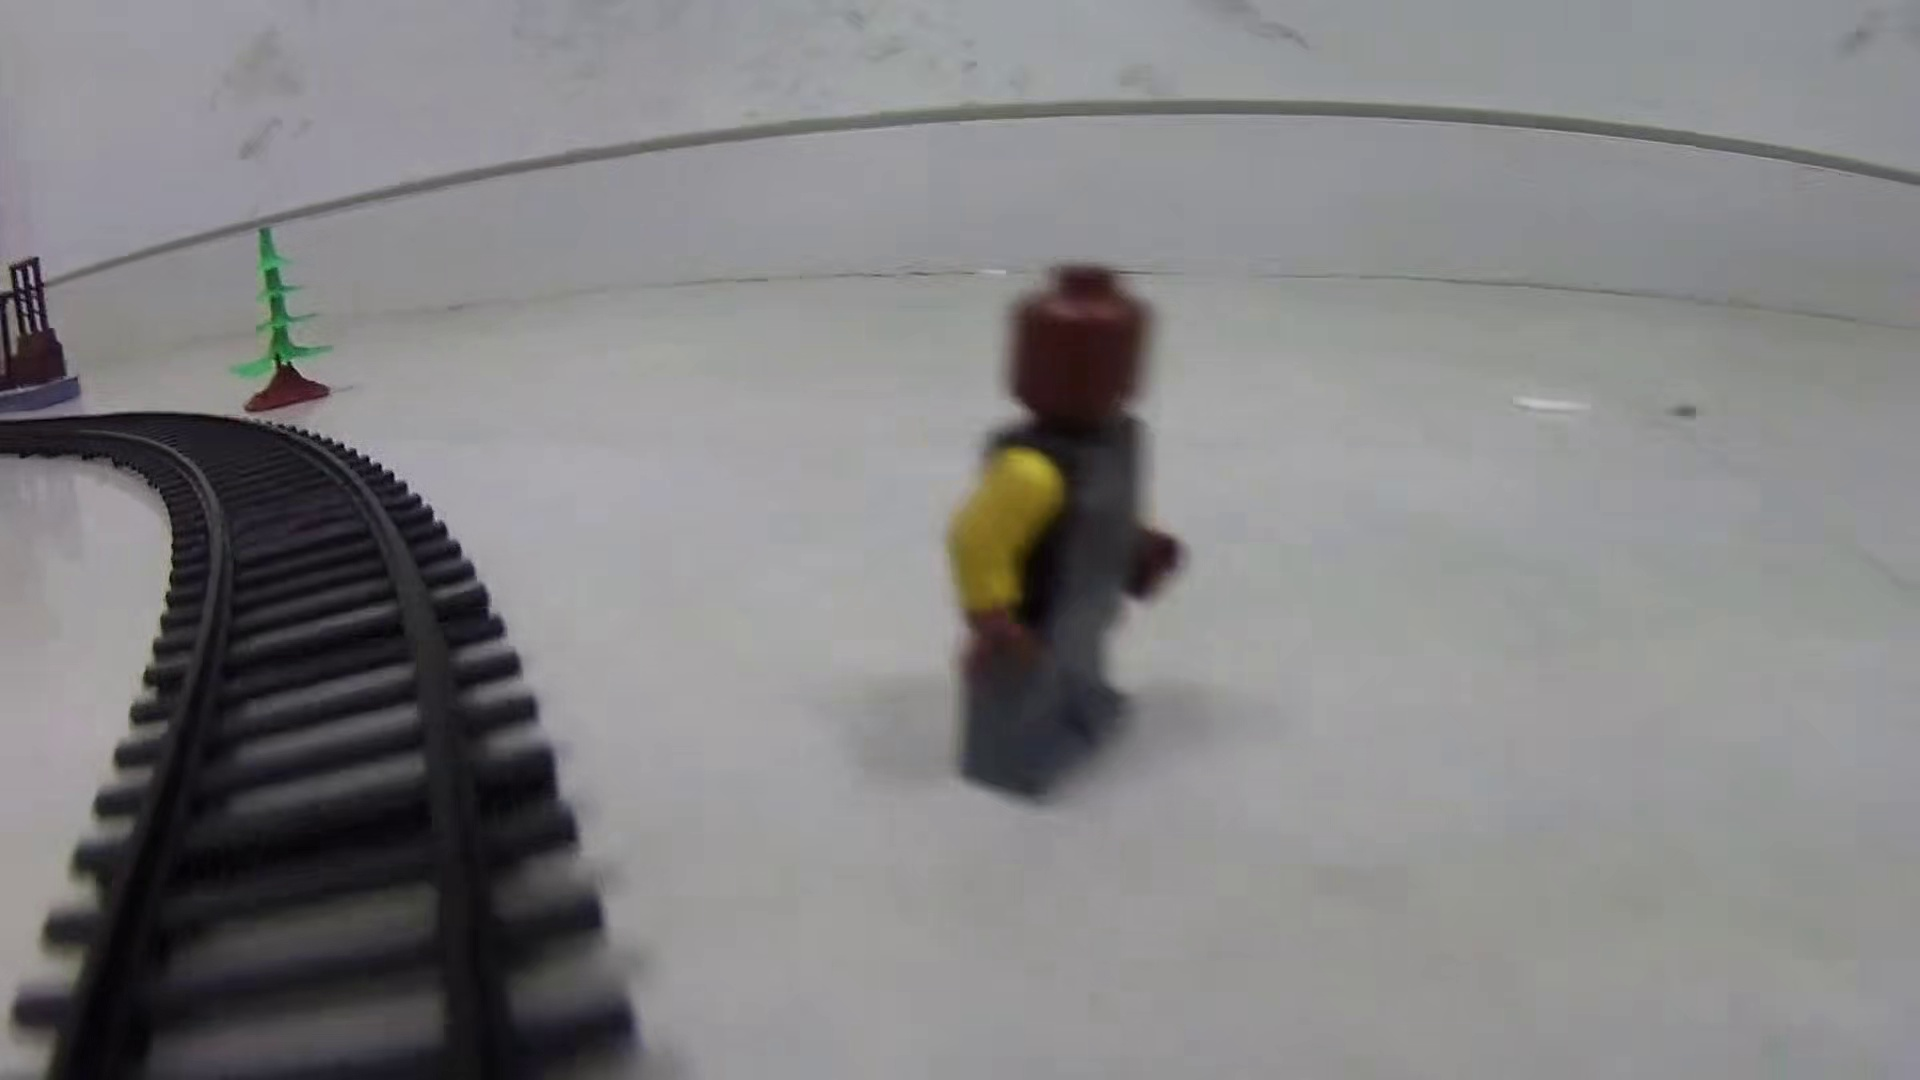people: (944, 266, 1188, 802)
tree: (230, 222, 333, 414)
